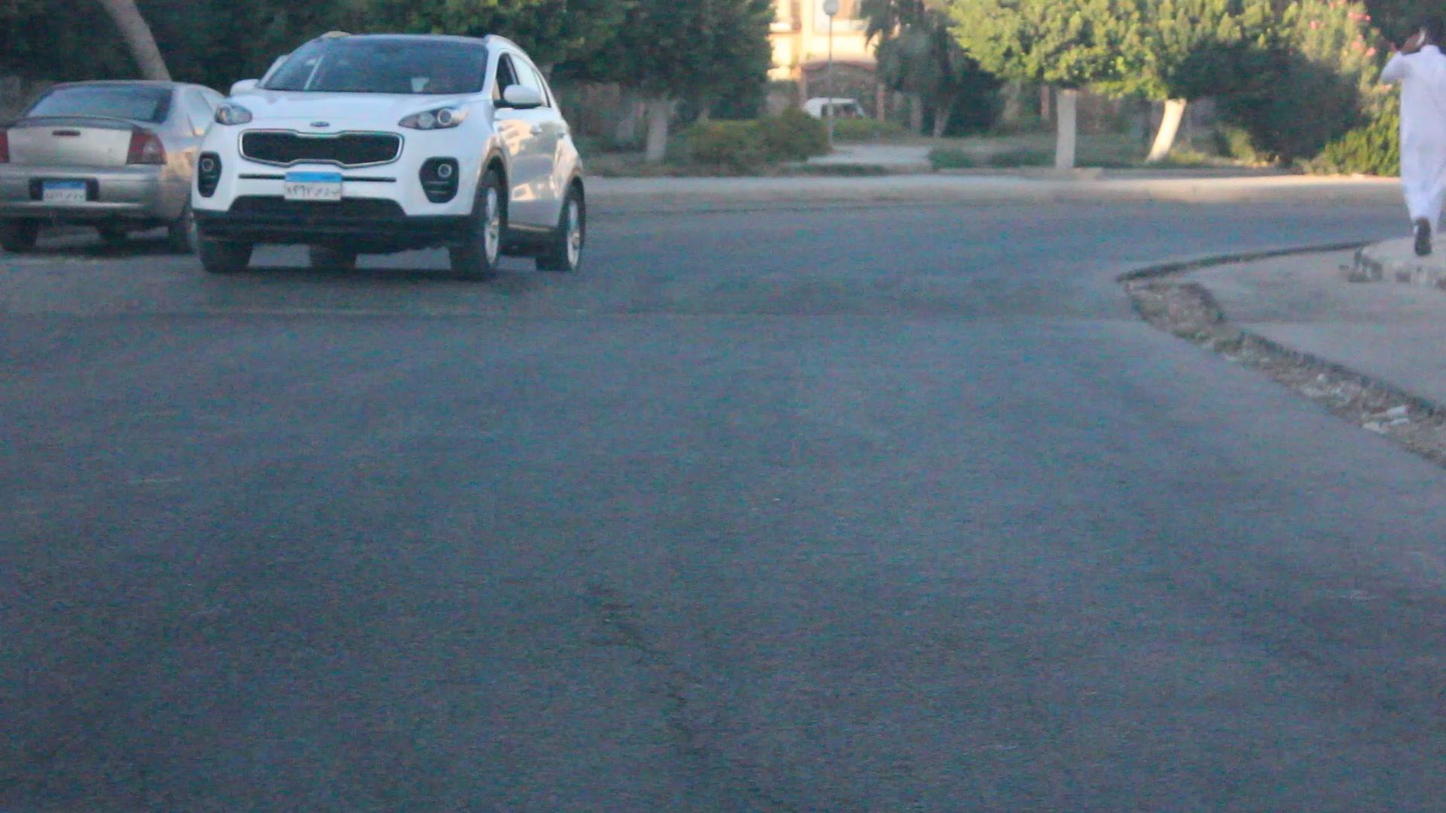Bump: (4, 247, 1137, 327)
